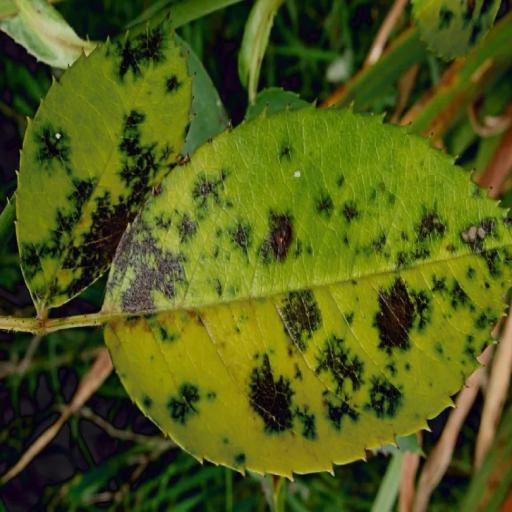downy_mildew: (104, 108, 511, 475), (17, 23, 192, 313), (0, 0, 96, 67), (413, 0, 500, 58), (239, 0, 284, 103)
